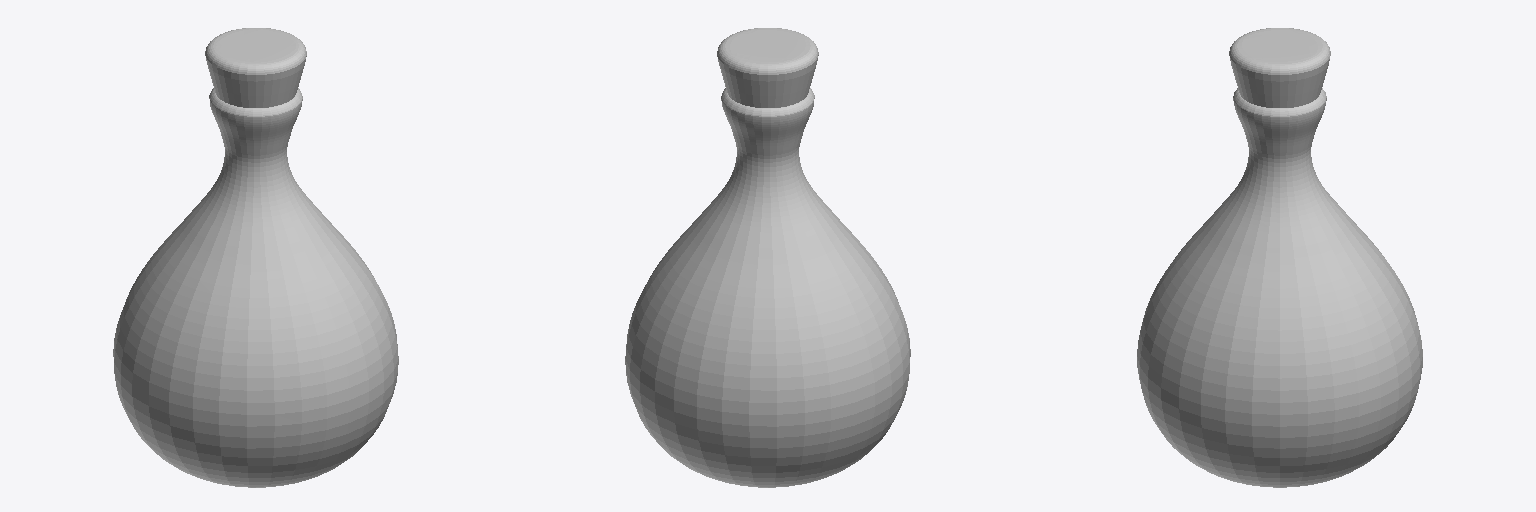
The model's file is glass bottle.obj.
The picture shows the model from 3 angles: view 1: azimuth 30°, elevation 25°; view 2: azimuth 150°, elevation 25°; view 3: azimuth 270°, elevation 25°; orthographic projection.
Visible parts, largest first — view 1: Line001 Mesh; view 2: Line001 Mesh; view 3: Line001 Mesh.
Part boxes in pixels (x1,y1,x2,y2): Line001 Mesh: (113,28,398,487); Line001 Mesh: (625,28,910,487); Line001 Mesh: (1137,28,1422,487).
Bounding box in the file's own units: 41.08 × 66.62 × 41.08.